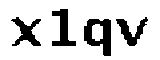1: (48, 6, 80, 49)
q: (82, 15, 115, 60)
v: (116, 13, 151, 50)
x: (8, 16, 43, 49)
